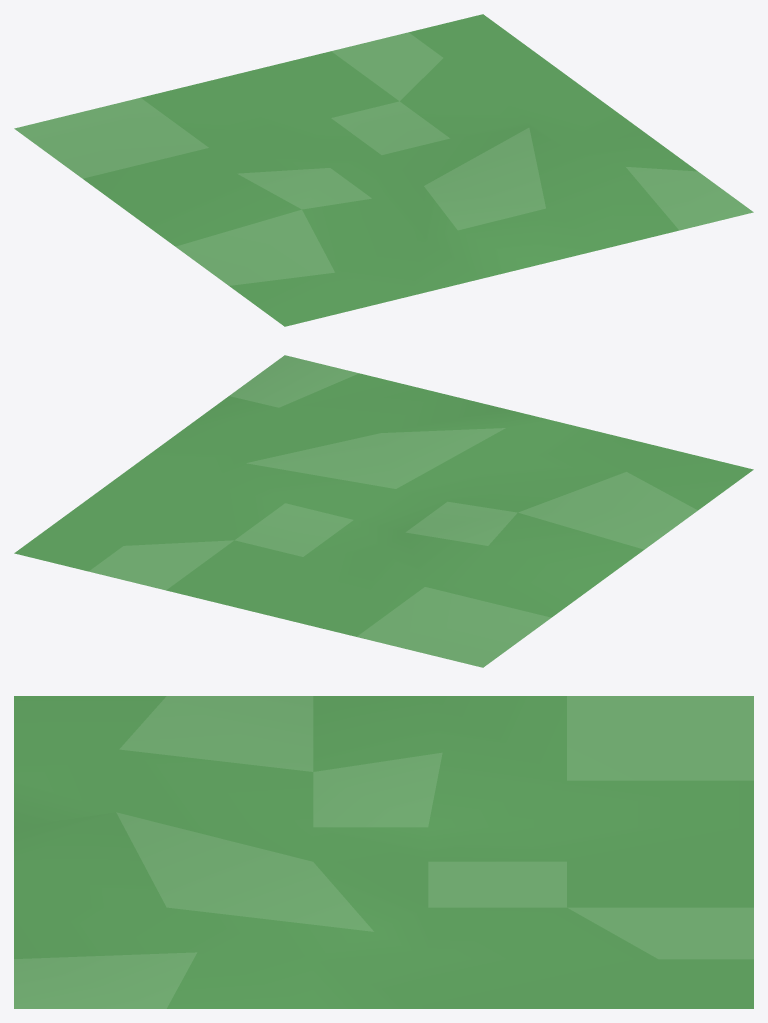
The model's file is Ground_1.obj.
3 views of the same model, one above another, from view 1: azimuth 30°, elevation 25°; view 2: azimuth 150°, elevation 25°; view 3: azimuth 270°, elevation 25° (orthographic). The views are drawn at different scales.
Parts seen in each view (by area): view 1: pPlane1; view 2: pPlane1; view 3: pPlane1.
Boxes of the visible parts, x1,y1,x2,y2 form: pPlane1: (14,14,753,326); pPlane1: (14,355,753,667); pPlane1: (14,696,753,1008).
Bounding box in the file's own units: 12.53 × 0.4503 × 12.53.
